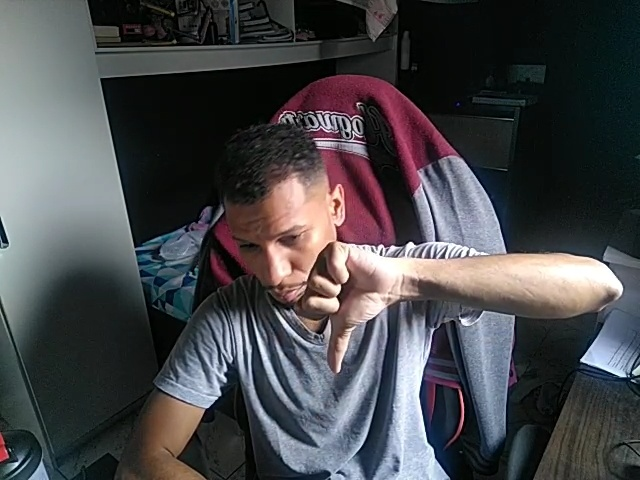não: (293, 237, 398, 383)
